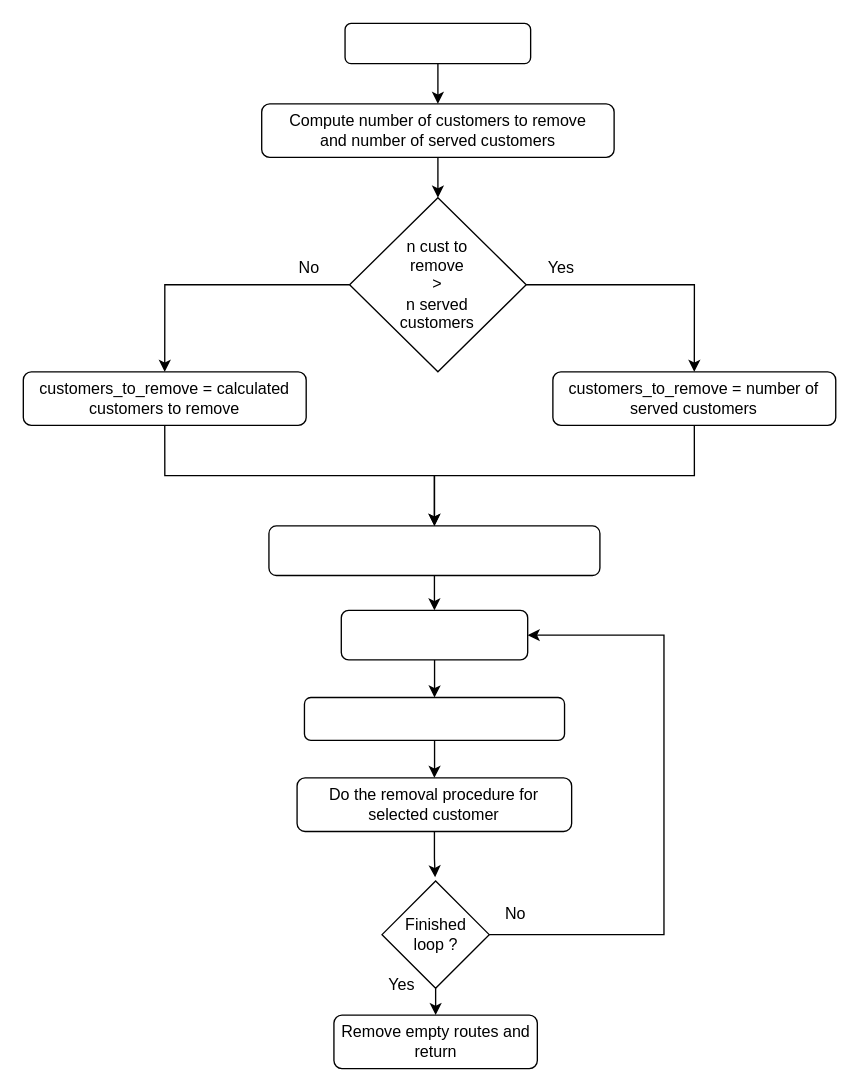
The diagram is 860 pixels wide and 1092 high, and some of its shapes have lost their labels. Each missing label, with the centre of its shape:
"Create copy of solution" belongs at (437,43).
"Loop over routes" belongs at (434,634).
"Randomly sample customers_to_remove routes with replacement" belongs at (434,550).
"Sample random node from route" belongs at (434,718).
